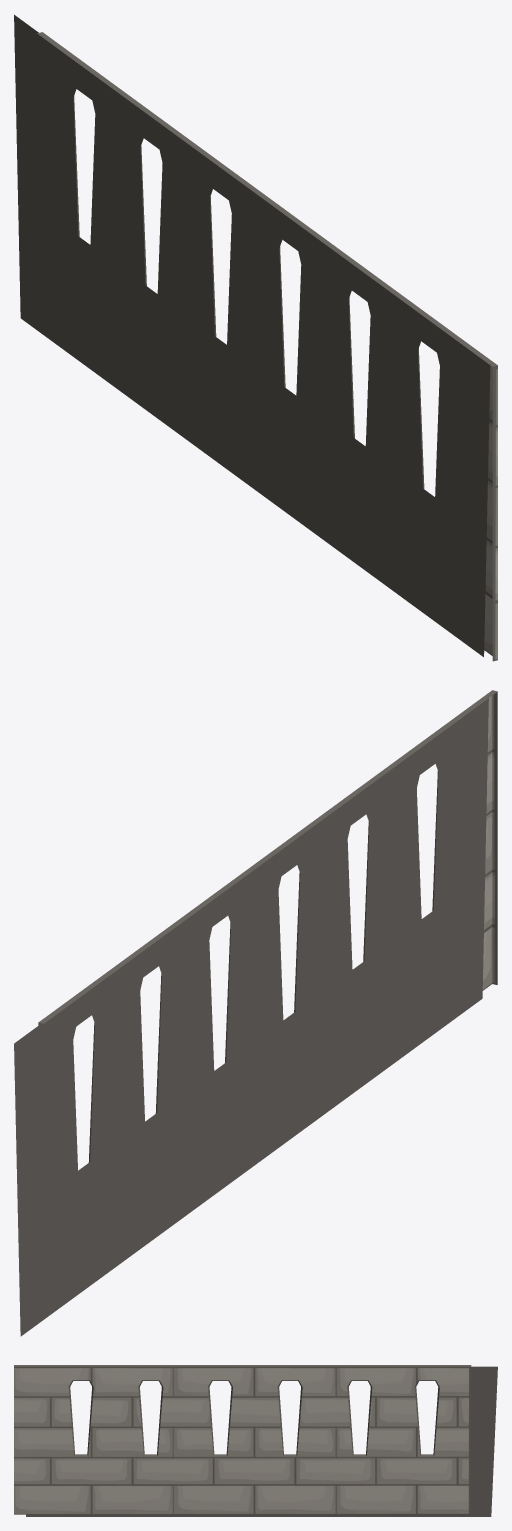
File: wall_block00.fbx
3 views of the same model, one above another, from view 1: azimuth 30°, elevation 25°; view 2: azimuth 150°, elevation 25°; view 3: azimuth 270°, elevation 25° (orthographic). The views are drawn at different scales.
Parts seen in each view (by area): view 1: Tile83; view 2: Tile83; view 3: Tile83.
Boxes of the visible parts, x1,y1,x2,y2 form: Tile83: [14, 14, 497, 661]; Tile83: [14, 690, 497, 1336]; Tile83: [14, 1365, 497, 1516].
Size of the model in its own units: 21.01 by 1019 by 2963.
